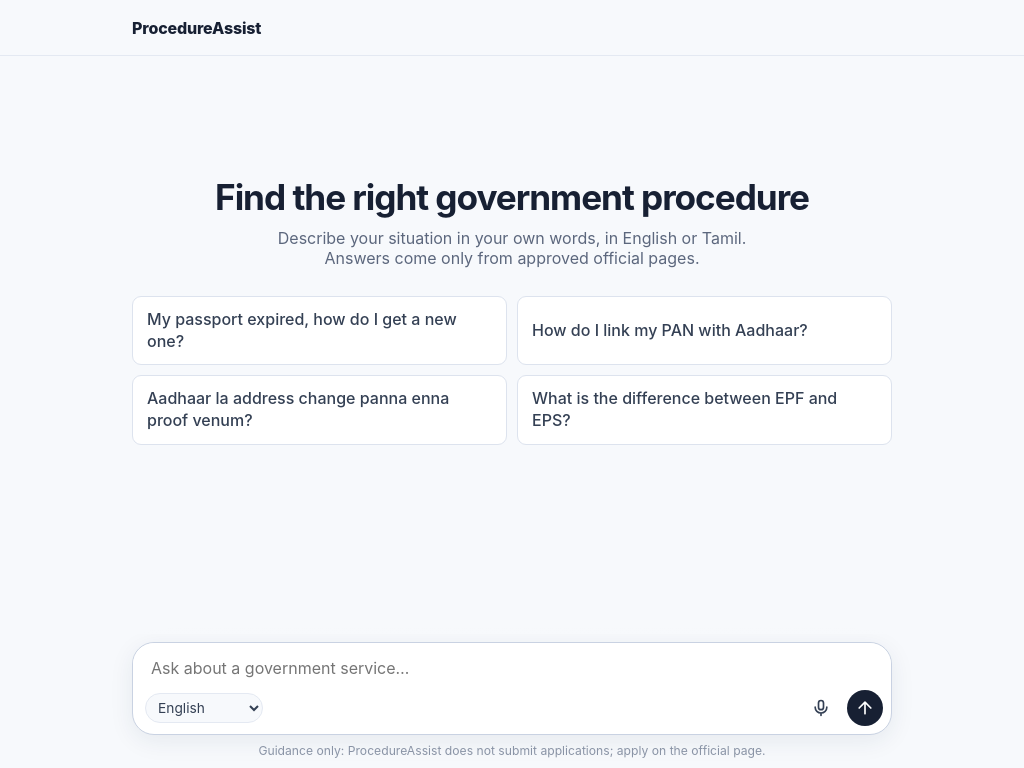
Test: citizen workflow › shows a procedure the citizen did not name once its page answers
Step 1. Type "My passport expired" into the text box named "Your situation or question" → (512, 663), box [133,643,891,684]
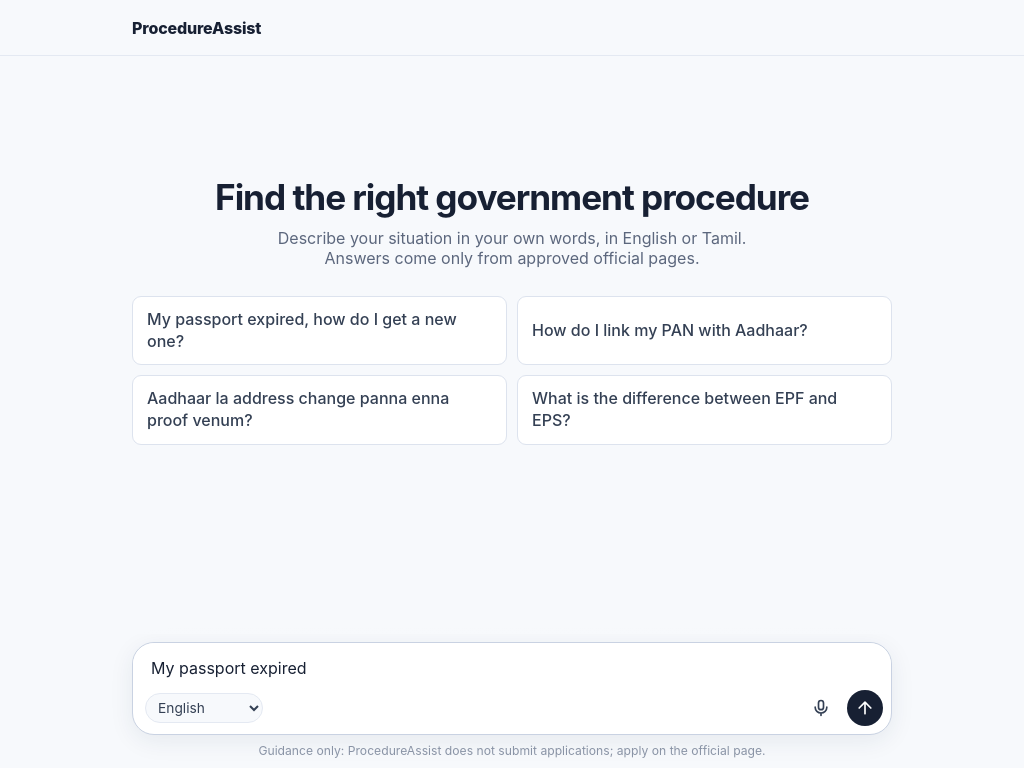
Step 2. Click the button named "Send" → (865, 708), box [847,690,883,726]
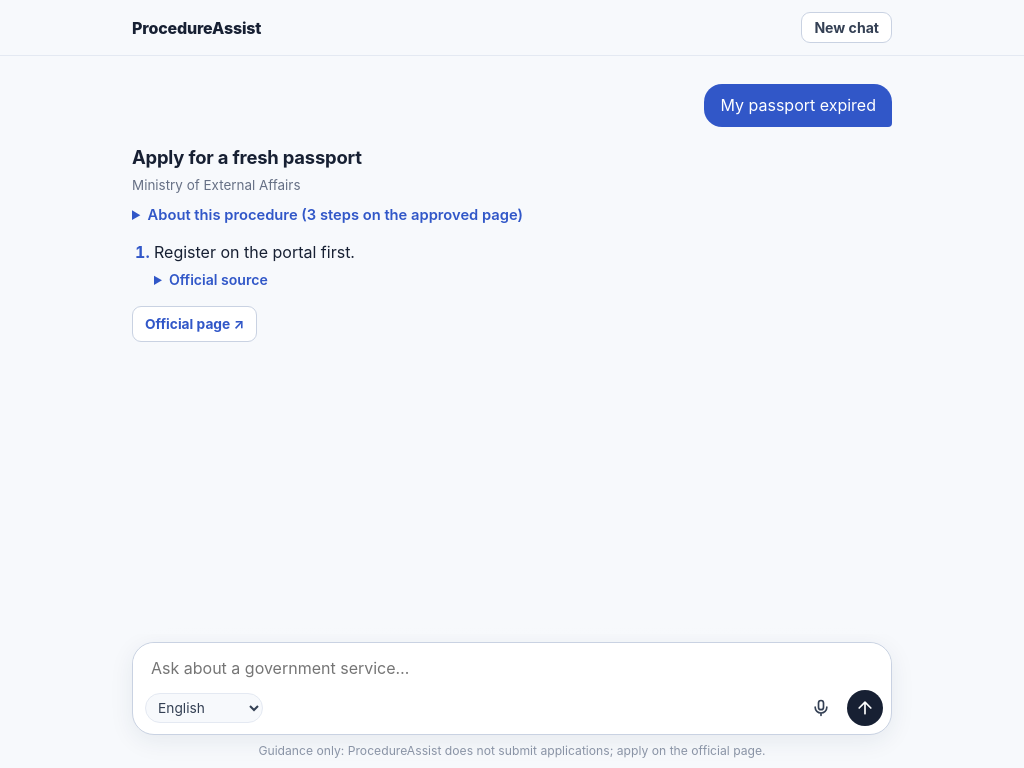
Result: the list item "Register on the portal first." is shown at [154,242,355,262]
Result: the heading "Apply for a fresh passport" is shown at [132,146,362,168]
